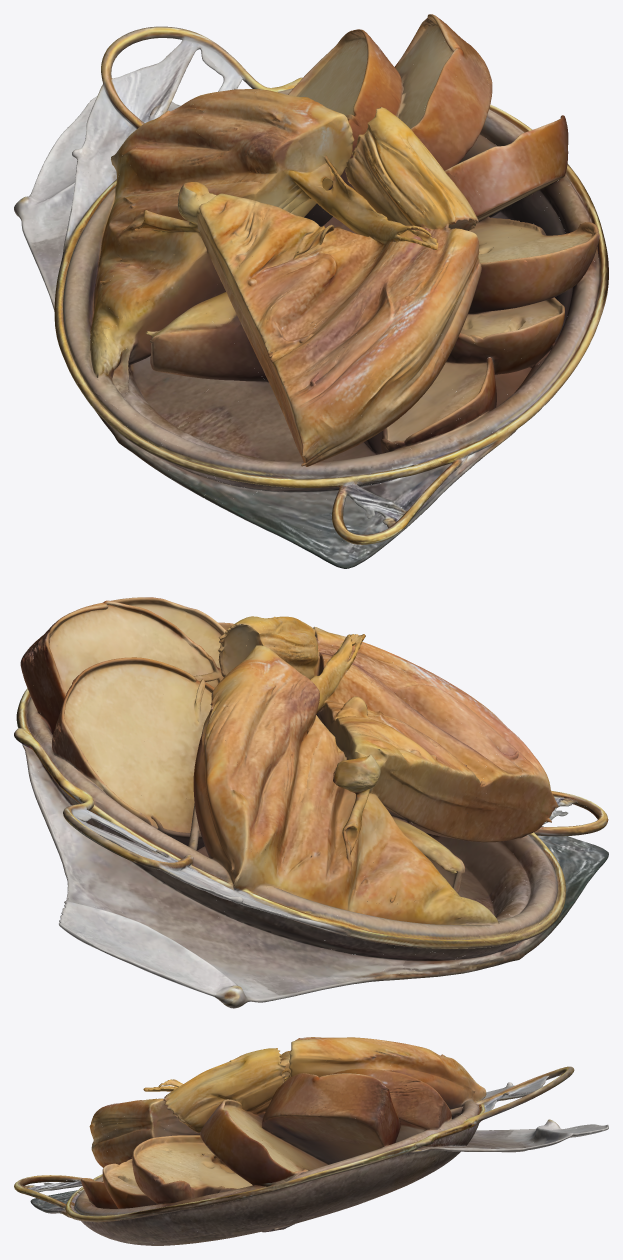
The model's file is non2.glb.
The picture shows the model from 3 angles, top to bottom: view 1: azimuth 30°, elevation 25°; view 2: azimuth 150°, elevation 25°; view 3: azimuth 270°, elevation 25°; orthographic projection. The views are drawn at different scales.
Visible parts, largest first — view 1: non-assorti; view 2: non-assorti; view 3: non-assorti.
Part boxes in pixels (left/top/right/bottom): non-assorti: left=14, top=14, right=608, bottom=568; non-assorti: left=14, top=597, right=608, bottom=1008; non-assorti: left=14, top=1037, right=608, bottom=1245.
Size of the model in its own units: 0.669 by 0.437 by 0.9799.
1 material, 1 textured.
